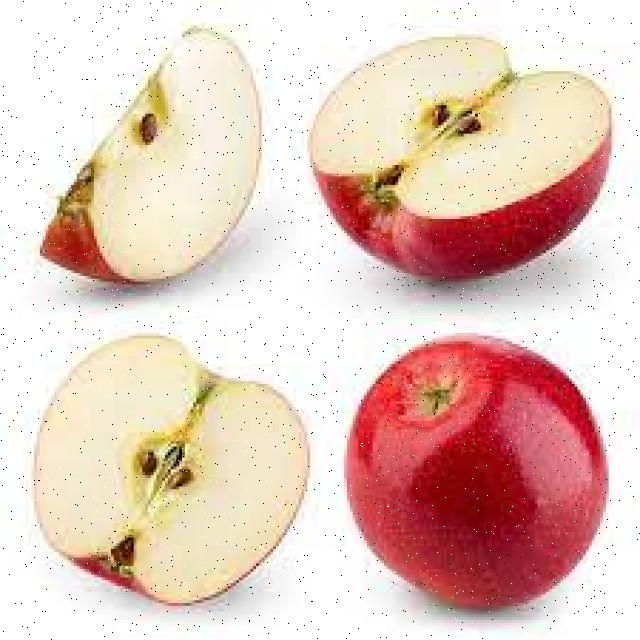Apple: (312, 37, 611, 286), (34, 337, 310, 605), (347, 337, 606, 604), (43, 23, 266, 283)
